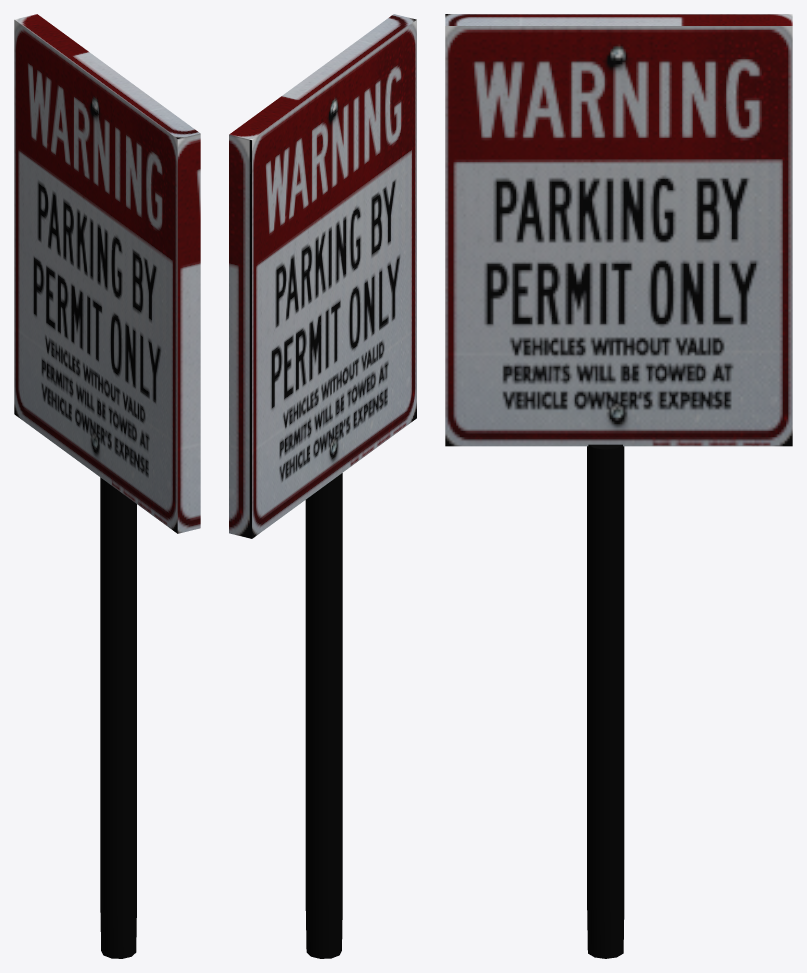
The model's file is traffic sign7.FBX.
The picture shows the model from 3 angles, left to right: view 1: azimuth 30°, elevation 25°; view 2: azimuth 150°, elevation 25°; view 3: azimuth 270°, elevation 25°; orthographic projection. The views are drawn at different scales.
Visible parts, largest first — view 1: Cylinder002; view 2: Cylinder002; view 3: Cylinder002.
Boxes of the visible parts, bbox=[...] form: Cylinder002: bbox=[14, 14, 200, 958]; Cylinder002: bbox=[229, 14, 416, 958]; Cylinder002: bbox=[445, 14, 792, 958].
Bounding box in the file's own units: 1.42 × 36.46 × 12.37.
